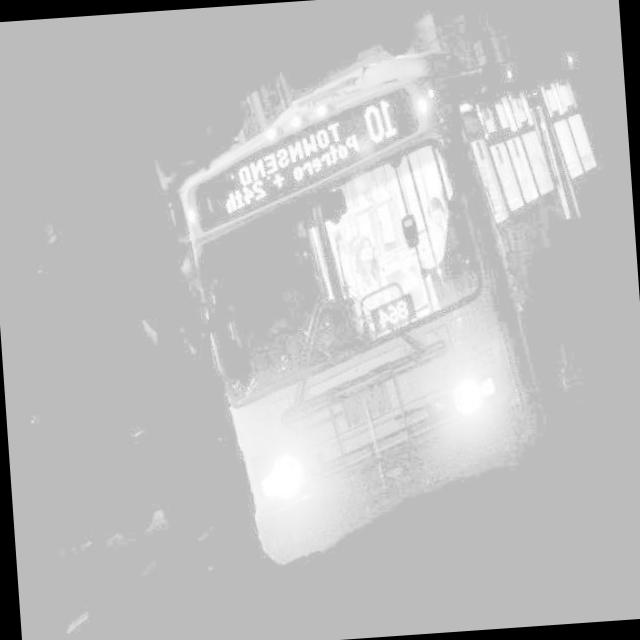Bus: (154, 0, 640, 587)
